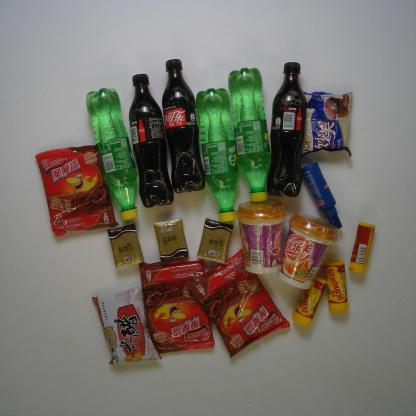Candy: (290, 277, 328, 329), (347, 220, 376, 274), (324, 260, 352, 314)
Dessert: (186, 248, 291, 358), (34, 144, 121, 238), (138, 256, 216, 354), (300, 90, 357, 159)
Drink: (85, 87, 139, 222), (160, 56, 207, 194), (127, 73, 175, 208), (227, 66, 273, 204), (195, 86, 239, 223), (266, 60, 308, 199)
Instant Drink: (276, 211, 339, 292), (234, 198, 288, 275)
Personal Hygiene: (300, 161, 346, 231)
Seasoner: (91, 284, 162, 366)
Tissue: (196, 218, 235, 266), (152, 215, 190, 263), (106, 222, 144, 268)
